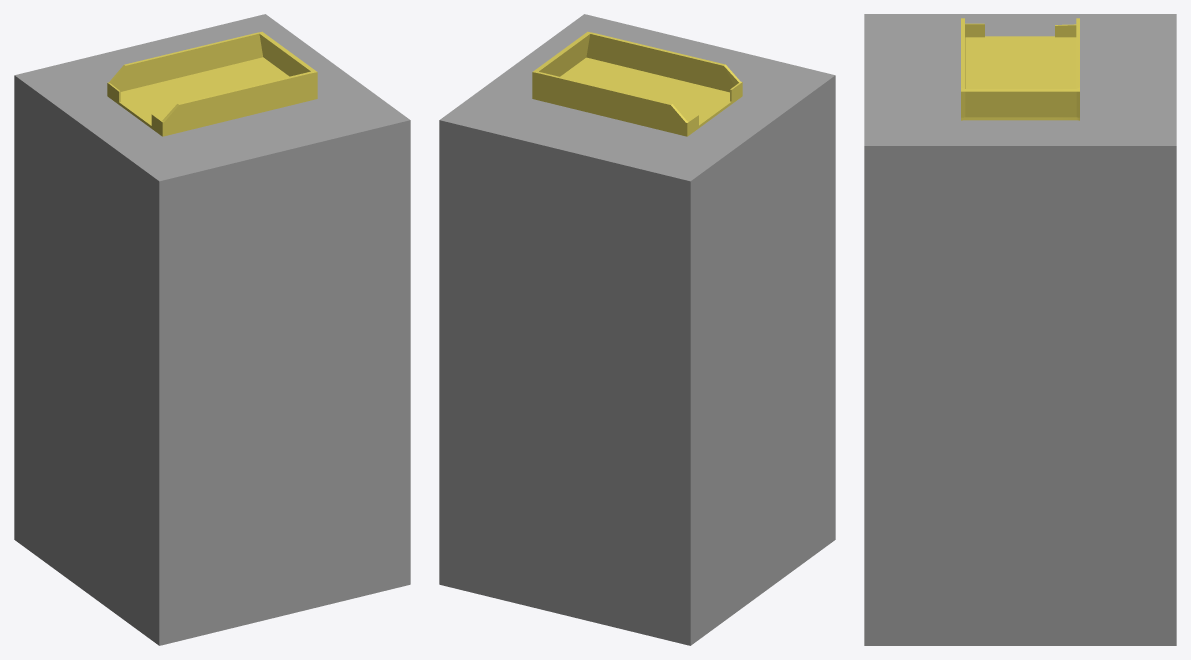
The model's file is Center Piece.fbx.
3 renders of one model, left to right at view 1: azimuth 30°, elevation 25°; view 2: azimuth 150°, elevation 25°; view 3: azimuth 270°, elevation 25°, orthographic. The views are drawn at different scales.
Visible parts, largest first — view 1: pCube3, pCube2; view 2: pCube3, pCube2; view 3: pCube3, pCube2.
Part boxes in pixels (left/top/right/bottom): pCube3: left=14, top=14, right=410, bottom=645; pCube2: left=107, top=31, right=317, bottom=136; pCube3: left=439, top=14, right=835, bottom=645; pCube2: left=532, top=31, right=742, bottom=136; pCube3: left=864, top=14, right=1176, bottom=645; pCube2: left=961, top=18, right=1079, bottom=120.
Bounding box in the file's own units: 1 × 1.87 × 1.
